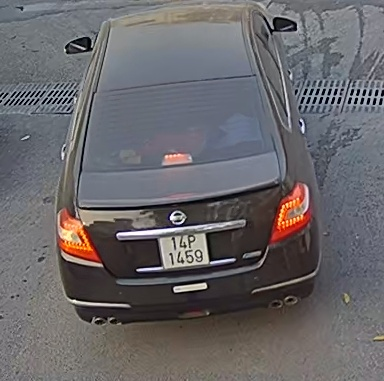vehicle plate: (151, 230, 211, 269)
